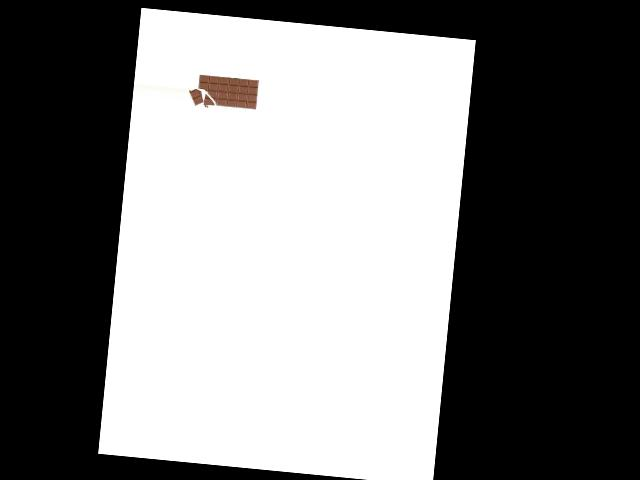chocolate: (186, 68, 260, 118)
